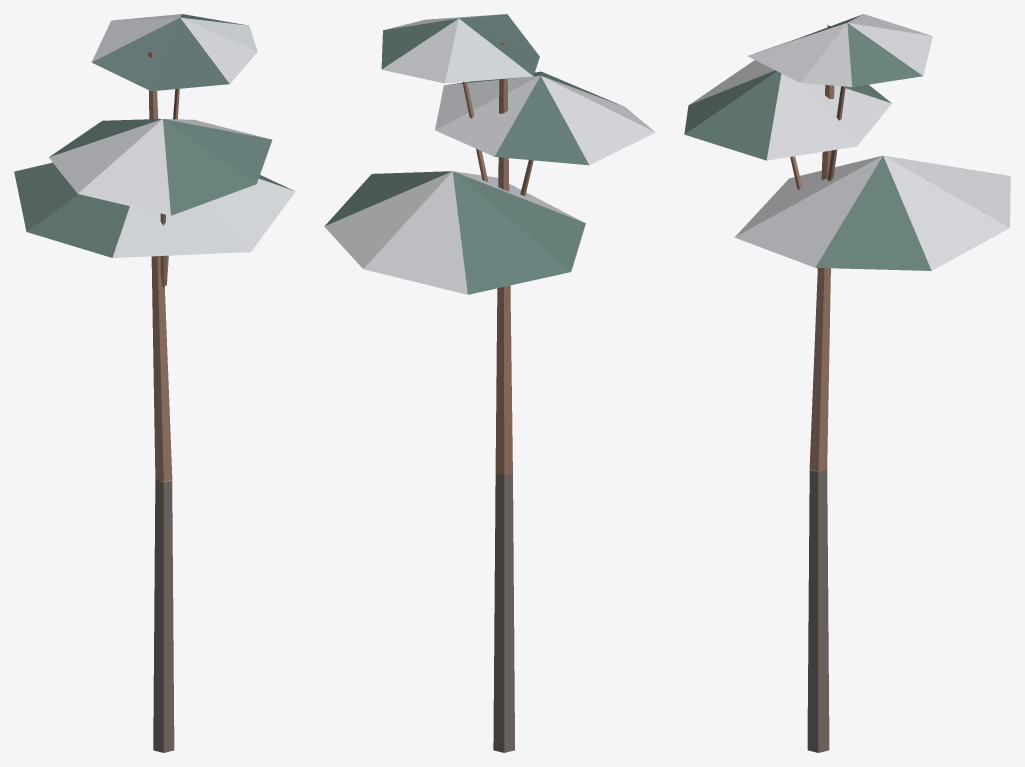
Rendered from manty_1.glb.
The picture shows the model from 3 angles, left to right: view 1: azimuth 30°, elevation 25°; view 2: azimuth 150°, elevation 25°; view 3: azimuth 270°, elevation 25°; orthographic projection. The views are drawn at different scales.
Visible parts, largest first — view 1: manty_1; view 2: manty_1; view 3: manty_1.
Boxes of the visible parts, left/top/right/bottom form: manty_1: left=14, top=14, right=295, bottom=752; manty_1: left=324, top=14, right=655, bottom=752; manty_1: left=684, top=14, right=1010, bottom=752.
Bounding box in the file's own units: 4.7 × 12.95 × 5.17.
